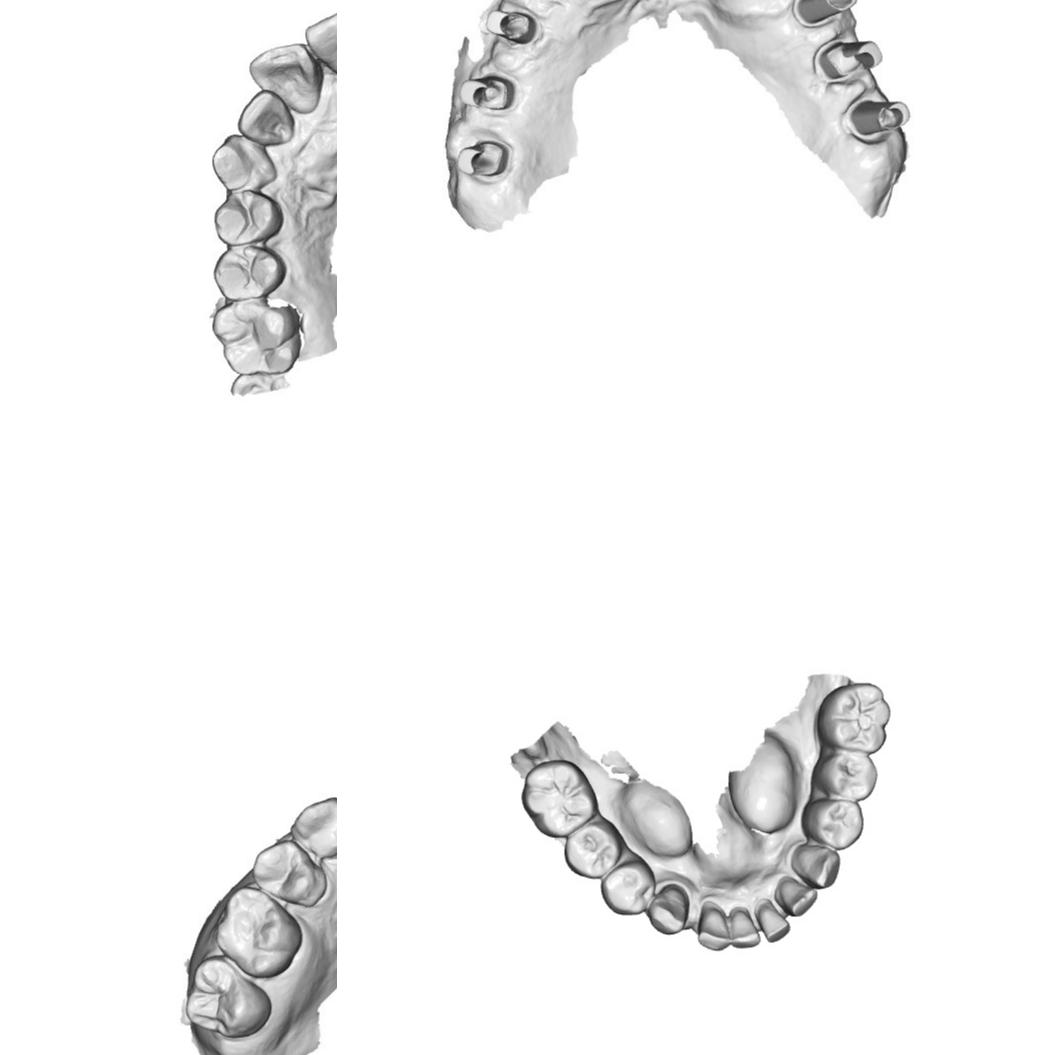abutment: (811, 33, 886, 85), (846, 91, 912, 146), (482, 1, 540, 46), (457, 132, 509, 178), (459, 69, 513, 113), (798, 0, 859, 24)
canine: (207, 133, 280, 194), (288, 793, 337, 860), (645, 881, 690, 936), (791, 844, 841, 891)
incisor: (247, 40, 322, 115), (236, 89, 297, 146), (303, 4, 337, 83), (777, 878, 819, 918), (696, 906, 732, 952), (757, 904, 791, 944), (729, 910, 760, 950)
molar: (207, 882, 304, 982), (210, 294, 304, 379), (183, 956, 275, 1042), (519, 757, 600, 840), (814, 682, 894, 754)
premolar: (250, 837, 328, 910), (210, 243, 288, 304), (563, 818, 625, 882), (212, 191, 281, 246), (800, 796, 865, 853), (598, 856, 658, 916), (813, 749, 878, 803)
